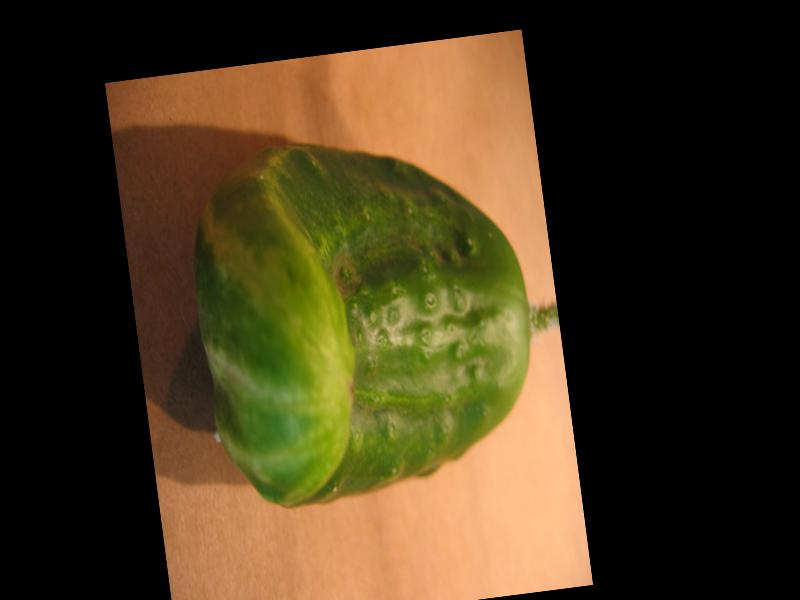Cucumber: (179, 120, 551, 519)
